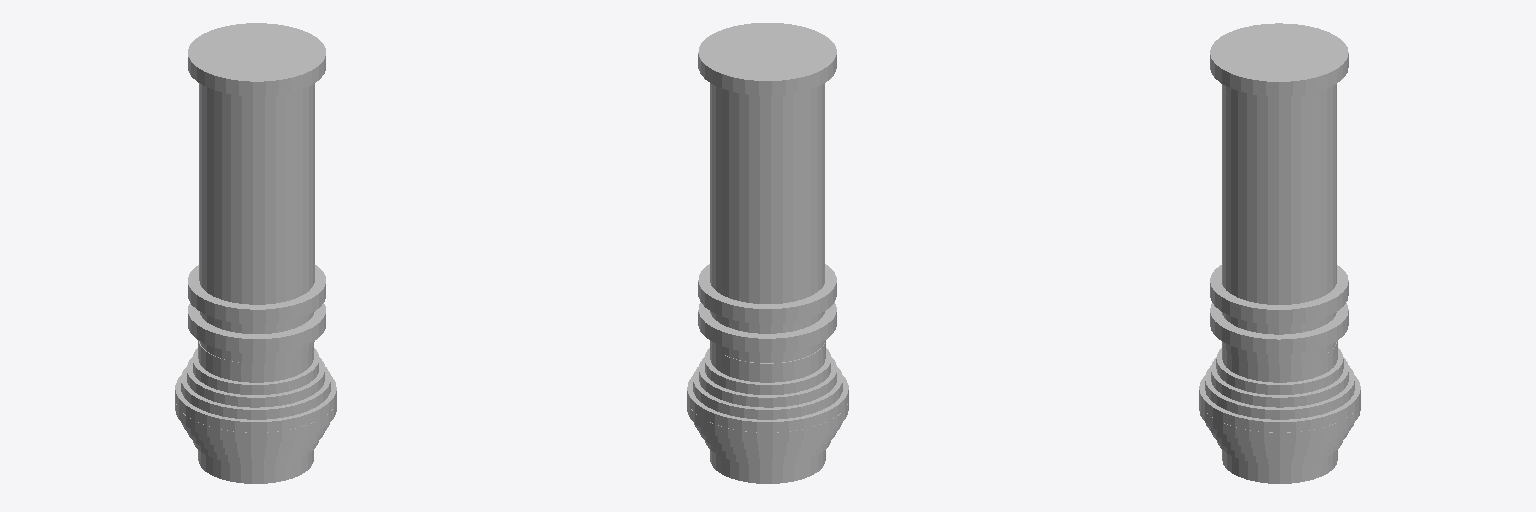
File: pump.obj
The picture shows the model from 3 angles: view 1: azimuth 30°, elevation 25°; view 2: azimuth 150°, elevation 25°; view 3: azimuth 270°, elevation 25°; orthographic projection.
Parts seen in each view (by area): view 1: 柱体.013, 柱体.015, 柱体.014, 柱体.012, 柱体.006, 柱体.007, 柱体.008, 柱体.009, 柱体.005, 柱体.002, 柱体.011, 柱体.010 (+4 smaller); view 2: 柱体.013, 柱体.015, 柱体.014, 柱体.012, 柱体.006, 柱体.007, 柱体.008, 柱体.009, 柱体.005, 柱体.011, 柱体.002, 柱体.010 (+4 smaller); view 3: 柱体.013, 柱体.015, 柱体.014, 柱体.012, 柱体.006, 柱体.007, 柱体.008, 柱体.009, 柱体.005, 柱体.002, 柱体.011, 柱体.010 (+4 smaller).
Boxes of the visible parts, <box> form: 柱体.013: <box>199,83,314,363</box>; 柱体.015: <box>188,23,325,95</box>; 柱体.014: <box>188,265,325,323</box>; 柱体.012: <box>188,303,325,353</box>; 柱体.006: <box>175,376,336,432</box>; 柱体.007: <box>181,367,330,419</box>; 柱体.008: <box>187,357,324,407</box>; 柱体.009: <box>193,348,318,394</box>; 柱体.005: <box>175,400,336,442</box>; 柱体.002: <box>198,451,313,483</box>; 柱体.011: <box>198,340,313,373</box>; 柱体.010: <box>198,351,313,382</box>; 柱体.013: <box>710,83,824,362</box>; 柱体.015: <box>698,23,836,95</box>; 柱体.014: <box>698,264,836,323</box>; 柱体.012: <box>698,302,836,352</box>; 柱体.006: <box>687,376,848,432</box>; 柱体.007: <box>693,367,842,419</box>; 柱体.008: <box>699,357,836,407</box>; 柱体.009: <box>705,348,830,394</box>; 柱体.005: <box>687,400,848,442</box>; 柱体.011: <box>710,340,825,373</box>; 柱体.002: <box>710,450,825,483</box>; 柱体.010: <box>710,350,825,382</box>; 柱体.013: <box>1222,84,1336,364</box>; 柱体.015: <box>1210,23,1348,96</box>; 柱体.014: <box>1210,265,1348,324</box>; 柱体.012: <box>1210,303,1348,353</box>; 柱体.006: <box>1199,376,1360,432</box>; 柱体.007: <box>1205,366,1354,419</box>; 柱体.008: <box>1211,357,1348,407</box>; 柱体.009: <box>1216,348,1343,394</box>; 柱体.005: <box>1199,401,1360,442</box>; 柱体.002: <box>1222,451,1337,483</box>; 柱体.011: <box>1222,341,1337,373</box>; 柱体.010: <box>1222,351,1337,382</box>.
Size of the model in its own units: 2.8 by 7.77 by 2.8.